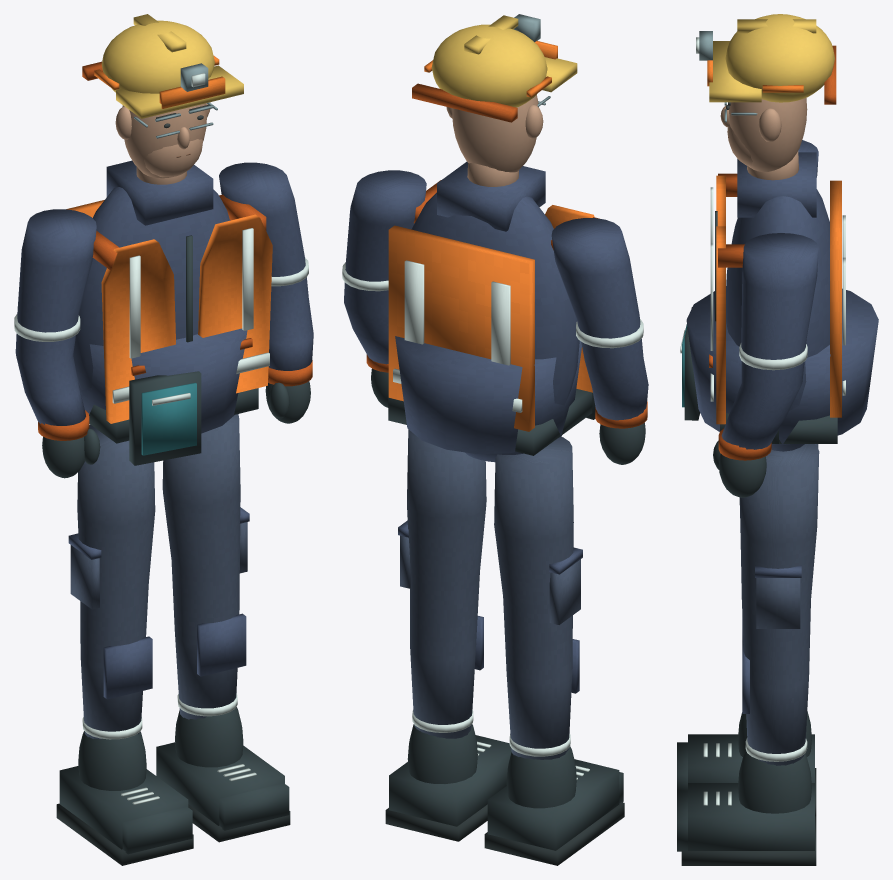
The model's file is IslandTechnician_Orange.glb.
3 renders of one model, left to right at view 1: azimuth 30°, elevation 25°; view 2: azimuth 150°, elevation 25°; view 3: azimuth 270°, elevation 25°, orthographic. The views are drawn at different scales.
Parts seen in each view (by area): view 1: Continuous trouser leg Right, Continuous trouser leg Left, Continuous jacket sleeve Left, Continuous jacket sleeve Right, Jacket core, Vest shaped front Left, Vest shaped front Right, Jacket lower taper, Helmet dome, Boot foot Left, Boot foot Right, Jacket collar (+28 smaller); view 2: Continuous trouser leg Left, Continuous trouser leg Right, Vest rear panel, Jacket lower taper, Continuous jacket sleeve Left, Jacket core, Continuous jacket sleeve Right, Helmet dome, Boot foot Left, Boot foot Right, Jacket collar, Head and jaw (+15 smaller); view 3: Continuous trouser leg Right, Continuous jacket sleeve Right, Jacket lower taper, Helmet dome, Jacket core, Boot foot Right, Head and jaw, Boot ankle Right, Jacket collar, Vest rear panel, Boot foot Left, Cargo pocket Right (+23 smaller).
Part boxes in pixels (x1,y1,x2,y2): Continuous trouser leg Right: (162, 414, 240, 719); Continuous trouser leg Left: (77, 424, 155, 739); Continuous jacket sleeve Left: (15, 209, 96, 425); Continuous jacket sleeve Right: (219, 162, 313, 370); Jacket core: (73, 187, 230, 390); Vest shaped front Left: (101, 239, 175, 423); Vest shaped front Right: (198, 214, 272, 393); Jacket lower taper: (78, 328, 247, 433); Helmet dome: (101, 20, 214, 93); Boot foot Left: (59, 766, 188, 849); Boot foot Right: (156, 742, 284, 825); Jacket collar: (106, 160, 213, 225); Continuous trouser leg Left: (494, 436, 573, 759); Continuous trouser leg Right: (407, 429, 486, 738); Vest rear panel: (388, 225, 534, 431); Jacket lower taper: (395, 336, 581, 453); Continuous jacket sleeve Left: (551, 218, 648, 420); Jacket core: (411, 192, 579, 462); Continuous jacket sleeve Right: (344, 170, 426, 364); Helmet dome: (431, 24, 547, 107); Boot foot Left: (487, 759, 619, 850); Boot foot Right: (389, 735, 511, 826); Jacket collar: (437, 161, 545, 231); Head and jaw: (452, 95, 538, 172); Continuous trouser leg Right: (739, 444, 819, 765); Continuous jacket sleeve Right: (721, 233, 818, 449); Jacket lower taper: (686, 288, 878, 444); Helmet dome: (725, 14, 834, 102); Jacket core: (726, 189, 829, 451); Boot foot Right: (688, 783, 814, 850); Head and jaw: (729, 98, 807, 171); Boot ankle Right: (738, 750, 811, 813); Jacket collar: (737, 152, 816, 217); Vest rear panel: (830, 180, 841, 417); Boot foot Left: (688, 734, 814, 782); Cargo pocket Right: (756, 578, 800, 628).
Bounding box in the file's own units: 0.704 × 1.84 × 0.4195.
13 materials, 13 textured.
